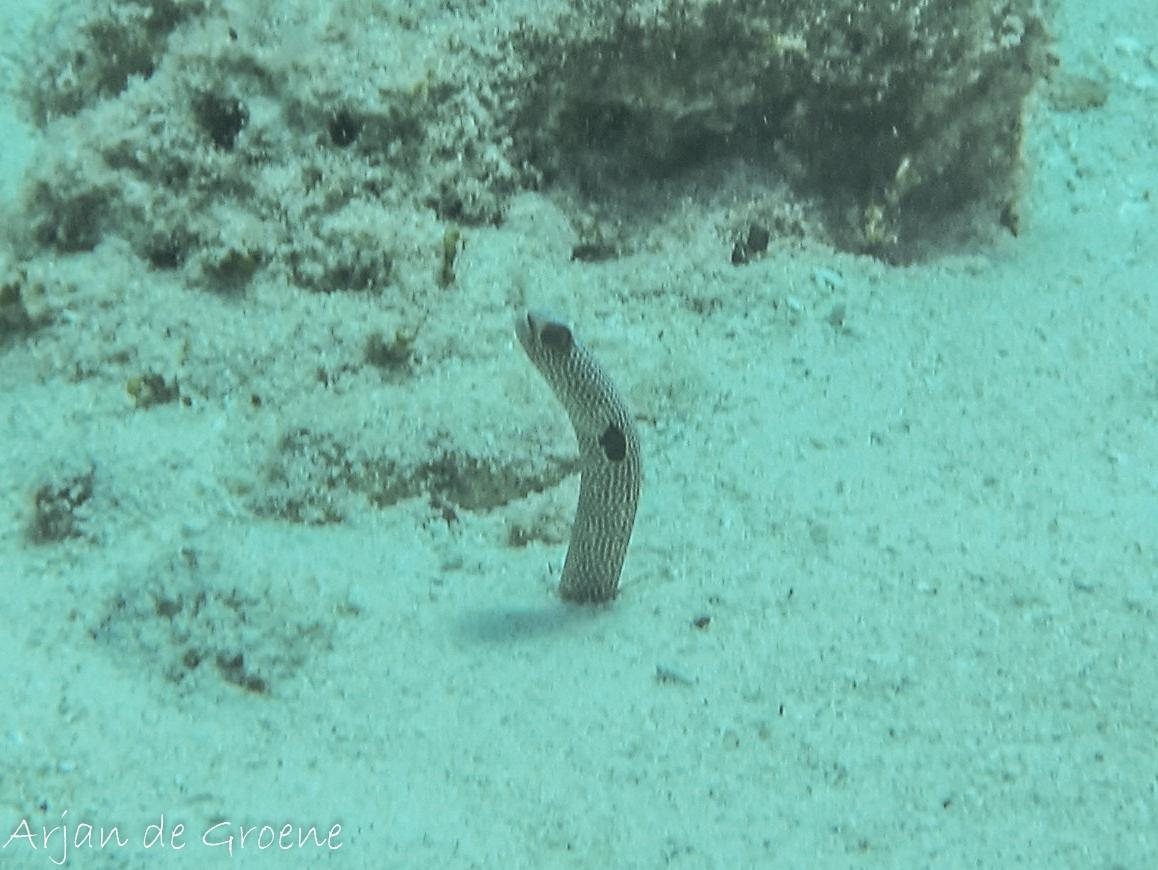Fish: (508, 304, 675, 616)
